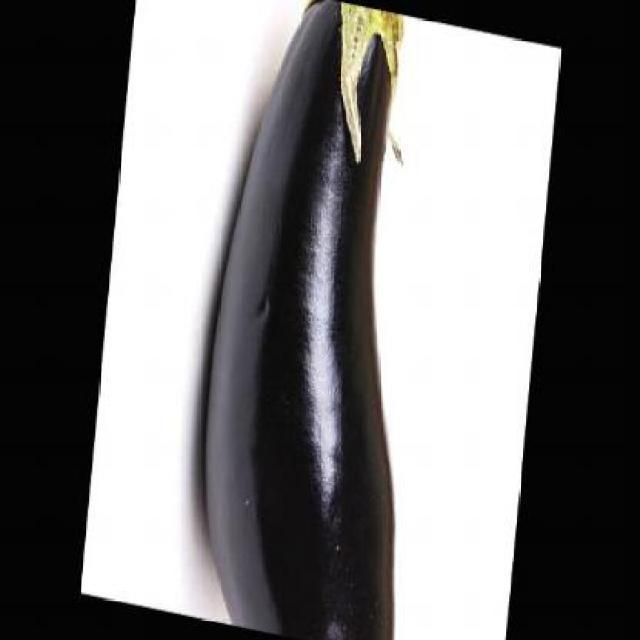eggplant: (183, 0, 454, 638)
